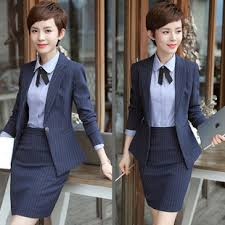F_tailored skirt: (5, 124, 77, 217), (128, 119, 196, 216)
S_business casual jacket: (1, 53, 109, 186), (119, 49, 216, 175)
